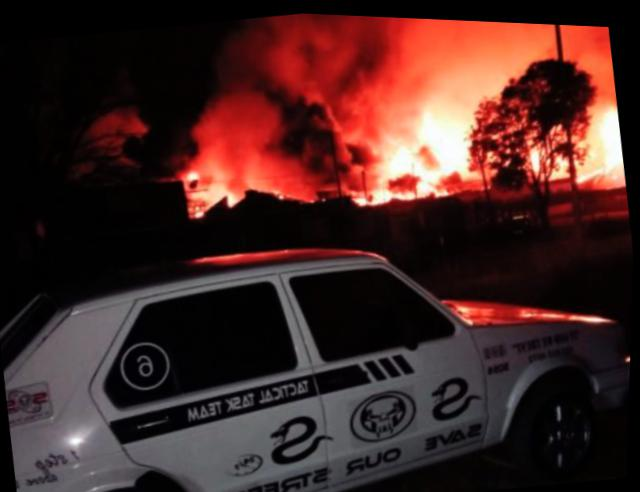fire: (597, 99, 626, 166), (437, 121, 471, 169), (398, 148, 420, 169), (419, 166, 436, 191), (426, 109, 437, 139)
smoke: (189, 7, 405, 164), (394, 14, 500, 98), (235, 137, 389, 184), (76, 95, 160, 160), (485, 17, 556, 62), (551, 19, 613, 58)
